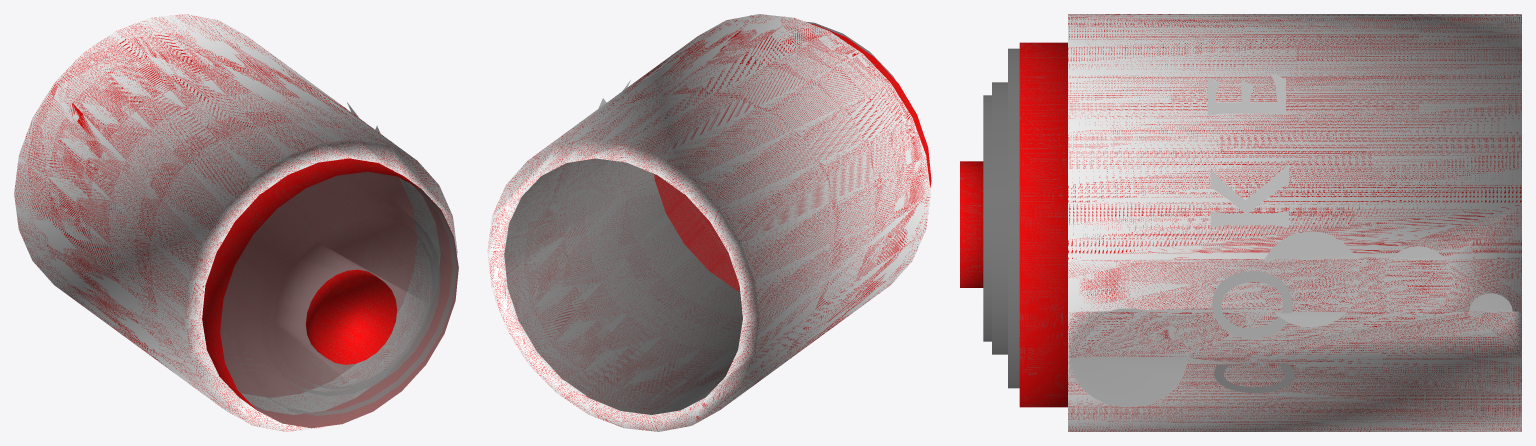
Rendered from model_scale.obj.
3 views of the same model, side by side, from view 1: azimuth 30°, elevation 25°; view 2: azimuth 150°, elevation 25°; view 3: azimuth 270°, elevation 25° (orthographic). The views are drawn at different scales.
Parts seen in each view (by area): view 1: mesh5_mesh5-geometry; view 2: mesh5_mesh5-geometry; view 3: mesh5_mesh5-geometry, mesh3_mesh3-geometry, mesh2_mesh2-geometry, mesh4_mesh4-geometry, mesh1_mesh1-geometry.
Boxes of the visible parts, box(x1,y1,x2,y2) form: mesh5_mesh5-geometry: box(14, 14, 458, 431); mesh5_mesh5-geometry: box(487, 14, 931, 431); mesh5_mesh5-geometry: box(960, 14, 1521, 431); mesh3_mesh3-geometry: box(1210, 164, 1288, 227); mesh2_mesh2-geometry: box(1212, 271, 1292, 338); mesh4_mesh4-geometry: box(1207, 73, 1285, 115); mesh1_mesh1-geometry: box(1214, 363, 1294, 392).
Size of the model in its own units: 0.1601 by 0.1549 by 0.2075.
